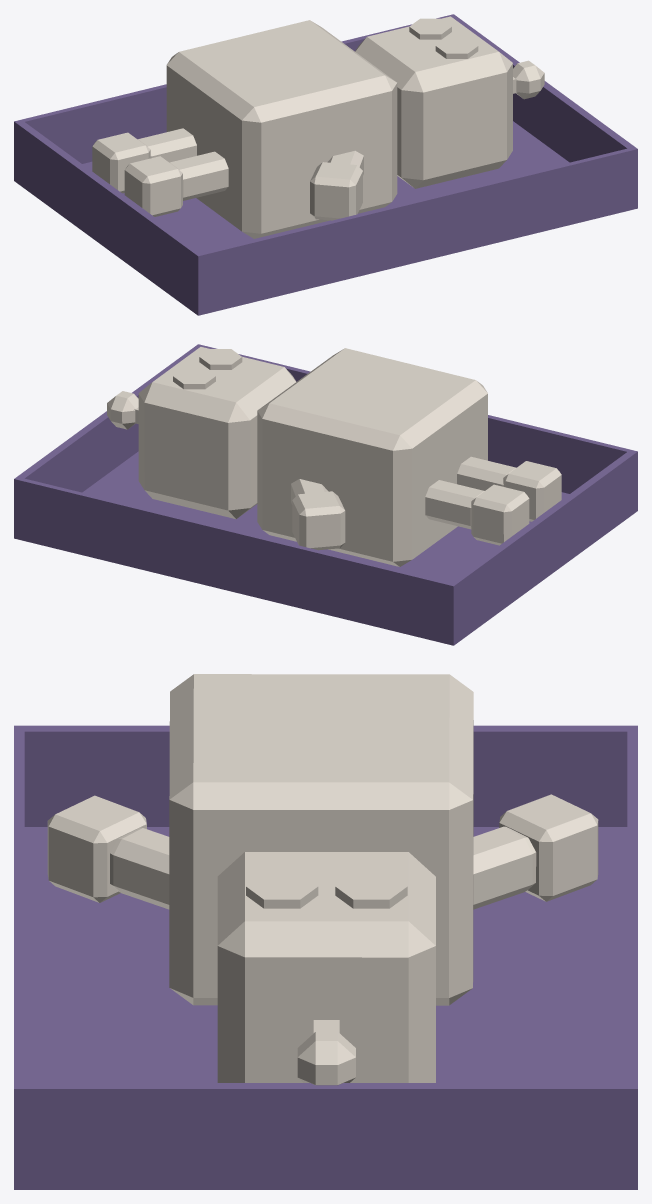
File: RobotOrderPurple.fbx
3 renders of one model, top to bottom at view 1: azimuth 30°, elevation 25°; view 2: azimuth 150°, elevation 25°; view 3: azimuth 270°, elevation 25°, orthographic. The views are drawn at different scales.
Visible parts, largest first — view 1: RobotOrderPurple, StandPurple; view 2: RobotOrderPurple, StandPurple; view 3: StandPurple, RobotOrderPurple.
Boxes of the visible parts, x1,y1,x2,y2 form: RobotOrderPurple: [92, 16, 544, 238]; StandPurple: [14, 14, 637, 315]; RobotOrderPurple: [107, 347, 561, 566]; StandPurple: [14, 344, 637, 645]; StandPurple: [14, 725, 637, 1189]; RobotOrderPurple: [47, 674, 598, 1085].
Bounding box in the file's own units: 45.82 × 14.25 × 33.25.
